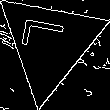L_E: (23, 24, 76, 63)
